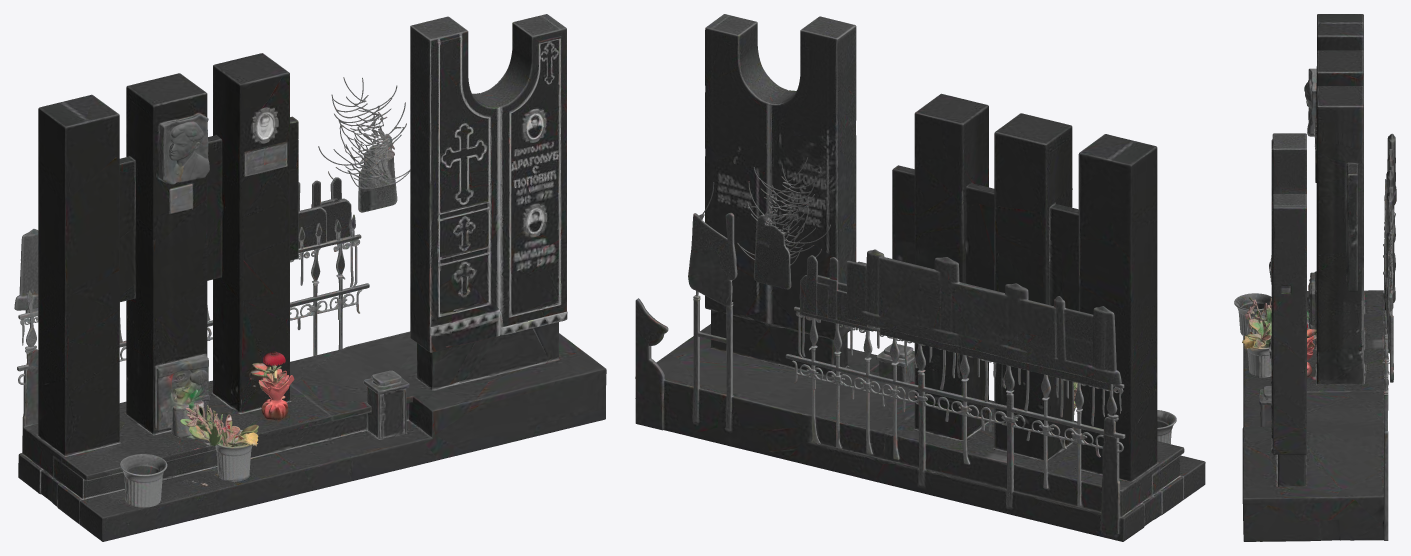
The model's file is zivka-matic-grob.glb.
3 views of the same model, side by side, from view 1: azimuth 30°, elevation 25°; view 2: azimuth 150°, elevation 25°; view 3: azimuth 270°, elevation 25° (orthographic). The views are drawn at different scales.
Size of the model in its own units: 1.9 by 1.46 by 0.6242.
1 material, 1 textured.
